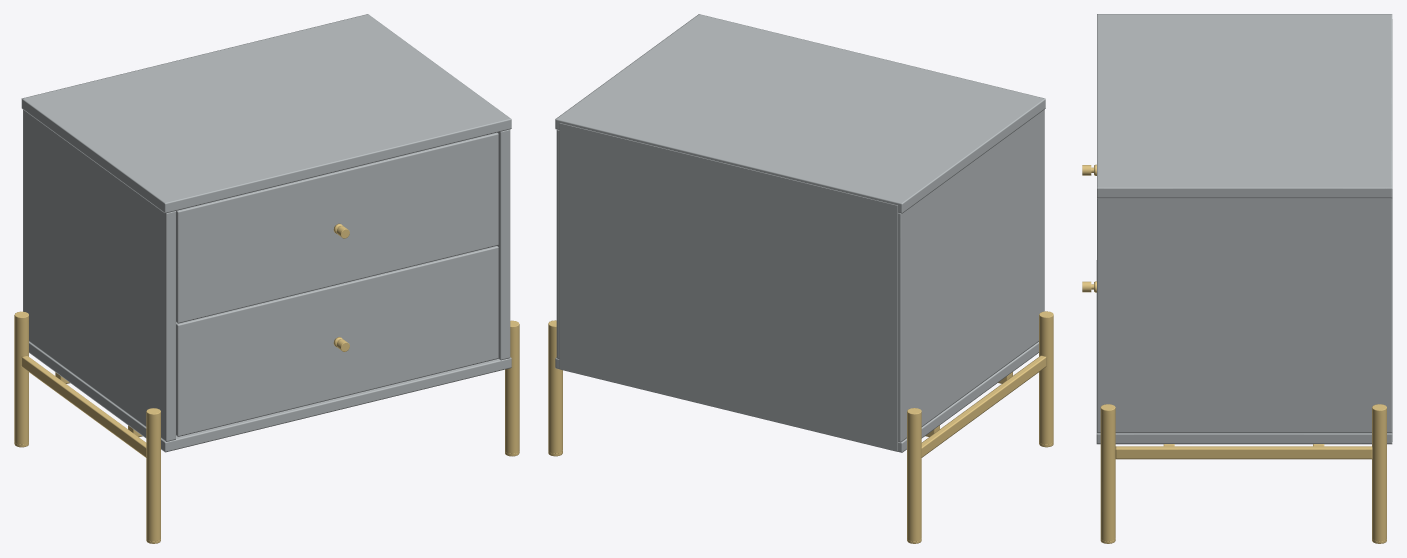
The model's file is mesa_de_noche.glb.
The picture shows the model from 3 angles, left to right: view 1: azimuth 30°, elevation 25°; view 2: azimuth 150°, elevation 25°; view 3: azimuth 270°, elevation 25°; orthographic projection. The views are drawn at different scales.
Visible parts, largest first — view 1: wood.002, metanl; view 2: wood.002, metanl; view 3: wood.002, metanl.
Part boxes in pixels (x1,y1,x2,y2): wood.002: [21, 14, 511, 452]; metanl: [14, 223, 519, 543]; wood.002: [555, 14, 1045, 452]; metanl: [548, 311, 1053, 543]; wood.002: [1096, 14, 1392, 444]; metanl: [1082, 164, 1386, 543].
Bounding box in the file's own units: 0.6389 × 0.5589 × 0.4495.
